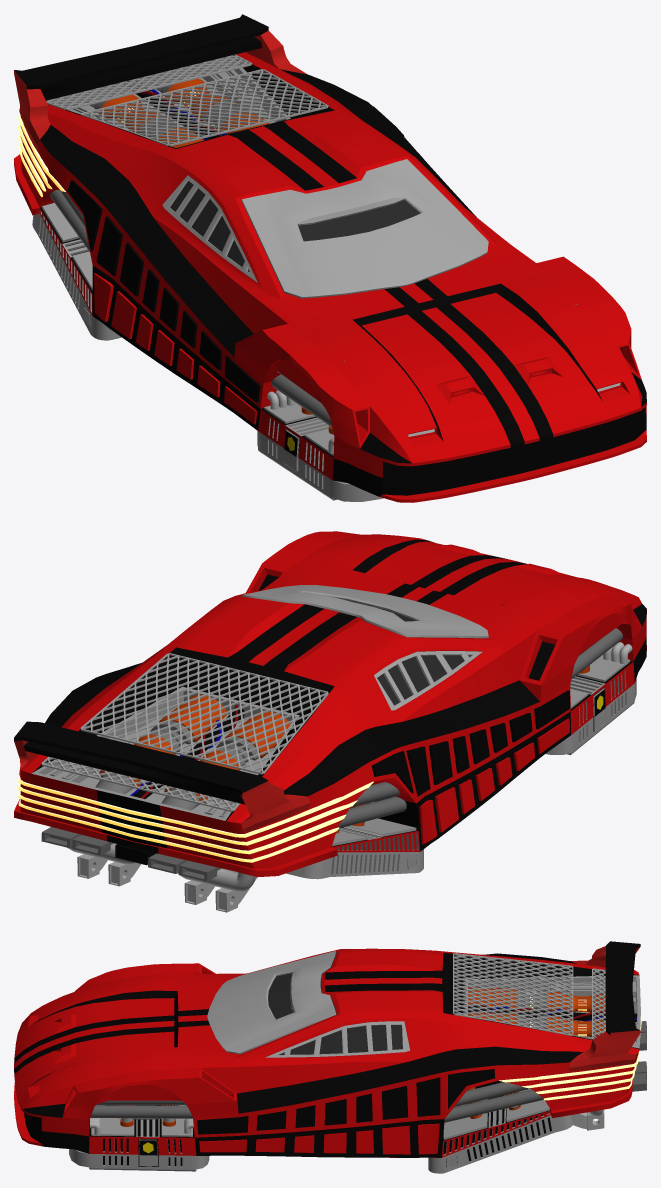
File: Cyberpunk Car - 3 level final.fbx
3 renders of one model, top to bottom at view 1: azimuth 30°, elevation 25°; view 2: azimuth 150°, elevation 25°; view 3: azimuth 270°, elevation 25°, orthographic. The views are drawn at different scales.
Parts seen in each view (by area): view 1: Cyberpunk car, Hood, armor, spoiler, front detail upper wheels, grille, reactive turbines, reactive turbines.001, grille.001, reactors, grille.002, back path of caar (+3 smaller); view 2: Cyberpunk car, grille, spoiler, front detail upper wheels, Hood, back path of caar, back lights, armor, reactive turbines.001, reactors, reactive turbines, back car another detail (+7 smaller); view 3: Cyberpunk car, Hood, armor, grille, front detail upper wheels, reactive turbines, reactive turbines.001, spoiler, reactors, back path of caar, pipe.001, pipe (+6 smaller).
Part boxes in pixels (left/top/right/bottom): Cyberpunk car: left=14, top=52, right=646, bottom=502; Hood: left=362, top=293, right=610, bottom=457; armor: left=241, top=159, right=488, bottom=298; spoiler: left=14, top=14, right=306, bottom=150; front detail upper wheels: left=234, top=256, right=641, bottom=448; grille: left=80, top=69, right=328, bottom=146; reactive turbines: left=257, top=402, right=383, bottom=501; reactive turbines.001: left=32, top=203, right=121, bottom=340; grille.001: left=46, top=54, right=252, bottom=110; reactors: left=86, top=72, right=269, bottom=148; grille.002: left=162, top=175, right=257, bottom=282; back path of caar: left=65, top=55, right=334, bottom=148; Cyberpunk car: left=14, top=534, right=646, bottom=877; grille: left=80, top=653, right=328, bottom=774; spoiler: left=14, top=721, right=310, bottom=833; front detail upper wheels: left=246, top=531, right=641, bottom=701; Hood: left=365, top=541, right=577, bottom=605; back path of caar: left=32, top=647, right=334, bottom=821; back lights: left=18, top=777, right=373, bottom=862; armor: left=241, top=585, right=488, bottom=638; reactive turbines.001: left=286, top=818, right=423, bottom=879; reactors: left=95, top=695, right=290, bottom=810; reactive turbines: left=545, top=654, right=636, bottom=755; back car another detail: left=77, top=854, right=257, bottom=912; Cyberpunk car: left=14, top=948, right=640, bottom=1157; Hood: left=14, top=998, right=174, bottom=1096; armor: left=207, top=951, right=336, bottom=1054; grille: left=453, top=953, right=573, bottom=1035; front detail upper wheels: left=62, top=963, right=238, bottom=1119; reactive turbines: left=69, top=1118, right=209, bottom=1171; reactive turbines.001: left=428, top=1089, right=574, bottom=1173; spoiler: left=569, top=941, right=640, bottom=1071; reactors: left=468, top=987, right=636, bottom=1040; back path of caar: left=442, top=952, right=639, bottom=1048; pipe.001: left=444, top=1082, right=543, bottom=1122; pipe: left=90, top=1100, right=192, bottom=1118.
Size of the model in its own units: 7.82 by 3.92 by 16.62.
